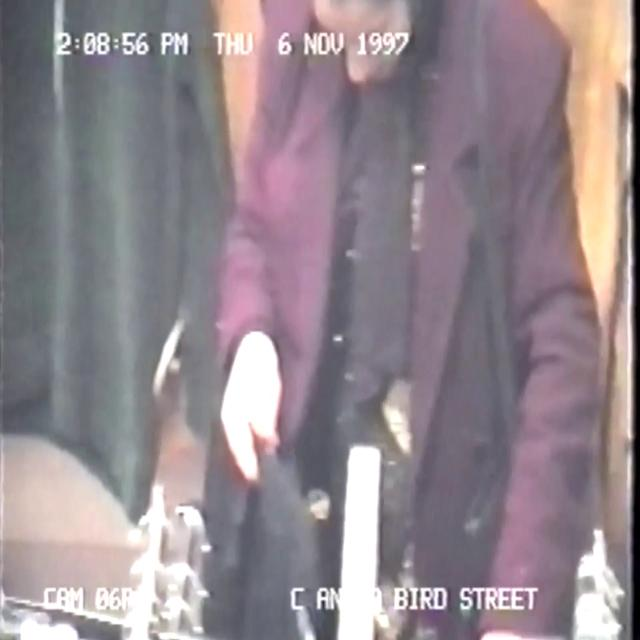Product: (206, 381, 337, 640)
shoplifting: (128, 0, 636, 640)
